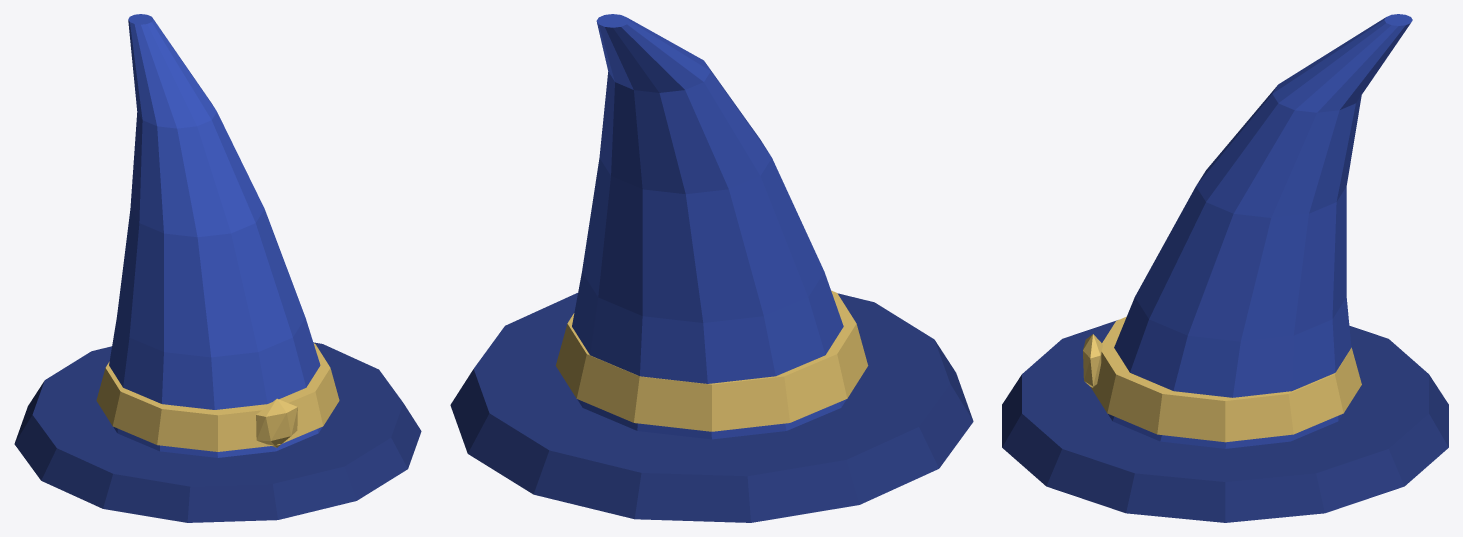
Rendered from drop_wizard_hat.glb.
3 renders of one model, left to right at view 1: azimuth 30°, elevation 25°; view 2: azimuth 150°, elevation 25°; view 3: azimuth 270°, elevation 25°, orthographic. The views are drawn at different scales.
Visible parts, largest first — view 1: drop_wizard_hat; view 2: drop_wizard_hat; view 3: drop_wizard_hat.
Part boxes in pixels (x1=…): drop_wizard_hat: x1=14, y1=14, x2=421, y2=522; drop_wizard_hat: x1=450, y1=14, x2=973, y2=522; drop_wizard_hat: x1=1002, y1=14, x2=1448, y2=522.
Size of the model in its own units: 0.405 by 0.396 by 0.3948.
